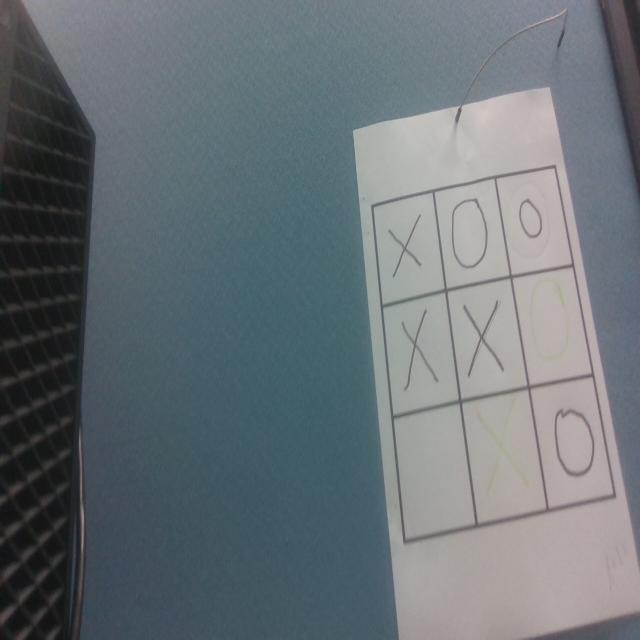null: (395, 404, 474, 542)
o: (524, 269, 589, 388), (449, 192, 490, 273), (555, 407, 594, 477), (518, 196, 544, 240)
table: (371, 164, 617, 555)
x: (479, 410, 528, 499), (398, 310, 442, 391), (466, 302, 504, 375), (389, 216, 422, 278)
